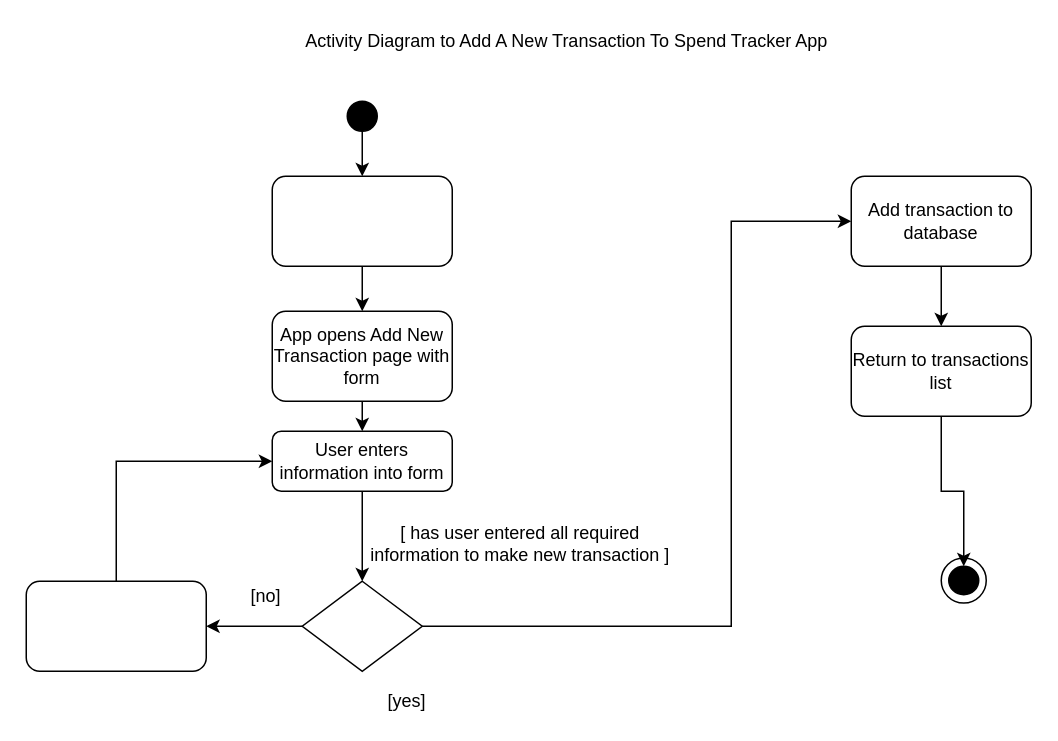
Image size: 1058x741. Some labels were removed from this diagram. The shapes that lost their labels are listed below. From the top down, each one's box as (x1, y1, x2, y2) in pixels, then its label:
(271, 175, 452, 266): User selects to add a new transaction to spend tracker
(25, 580, 206, 671): Display error message to fill in required details
